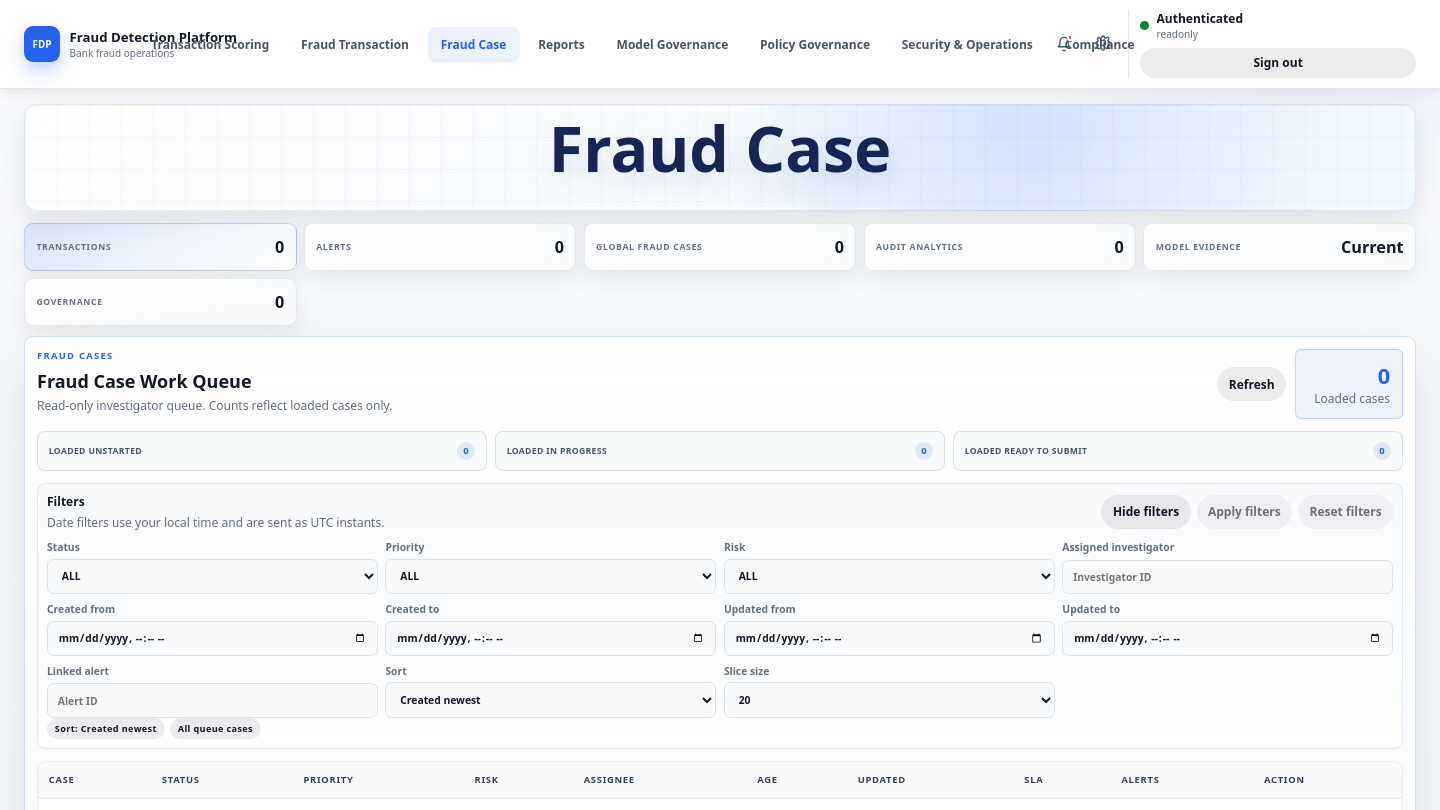
Test: App › modelGovernanceVisibleWithModelCardReadOnly
This screenshot has width=1440, height=810.
Click the link "Model Governance" at (672, 44), box [617, 36, 728, 53]
(page scrolled)
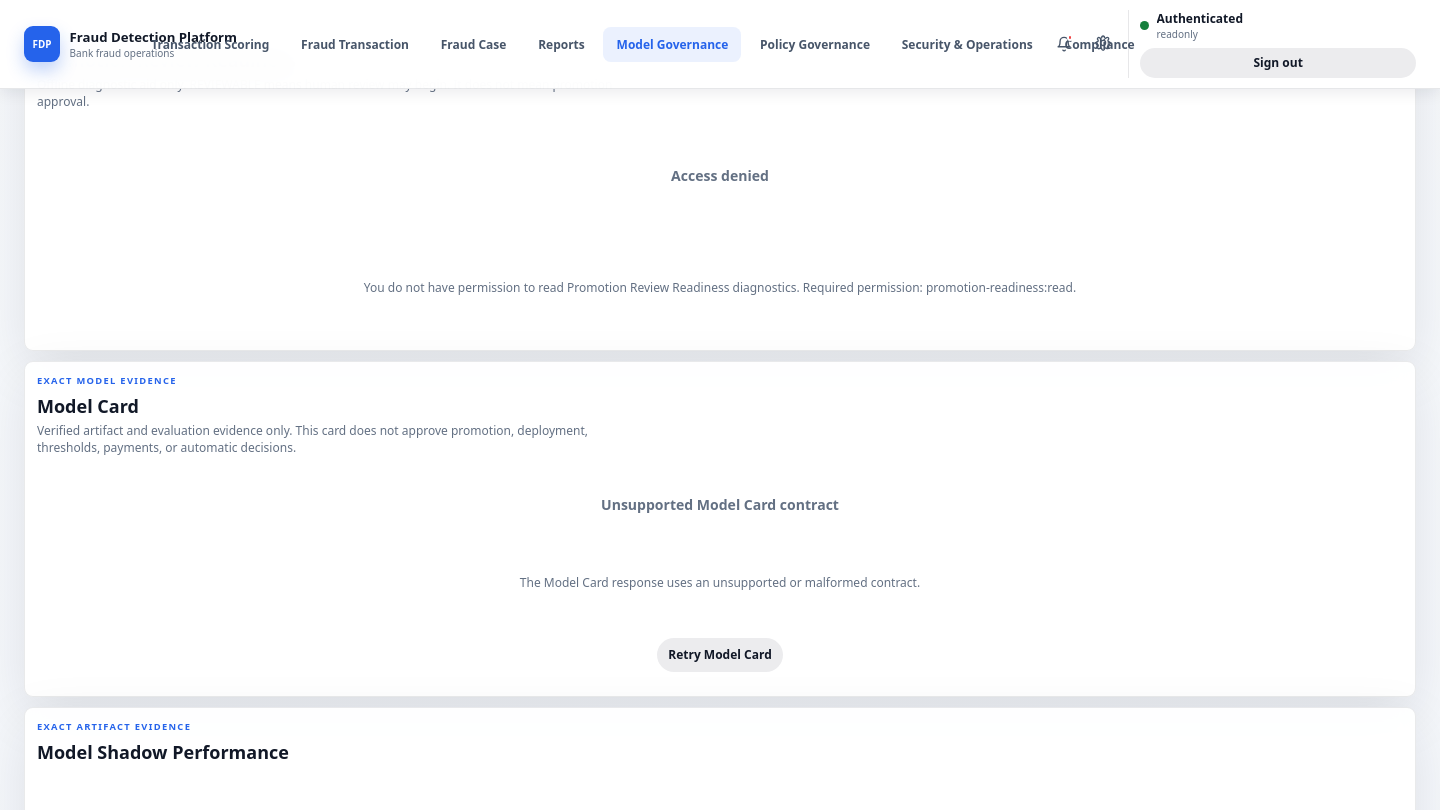
Expected: the heading "Model Card" is shown, [37, 394, 139, 418]
